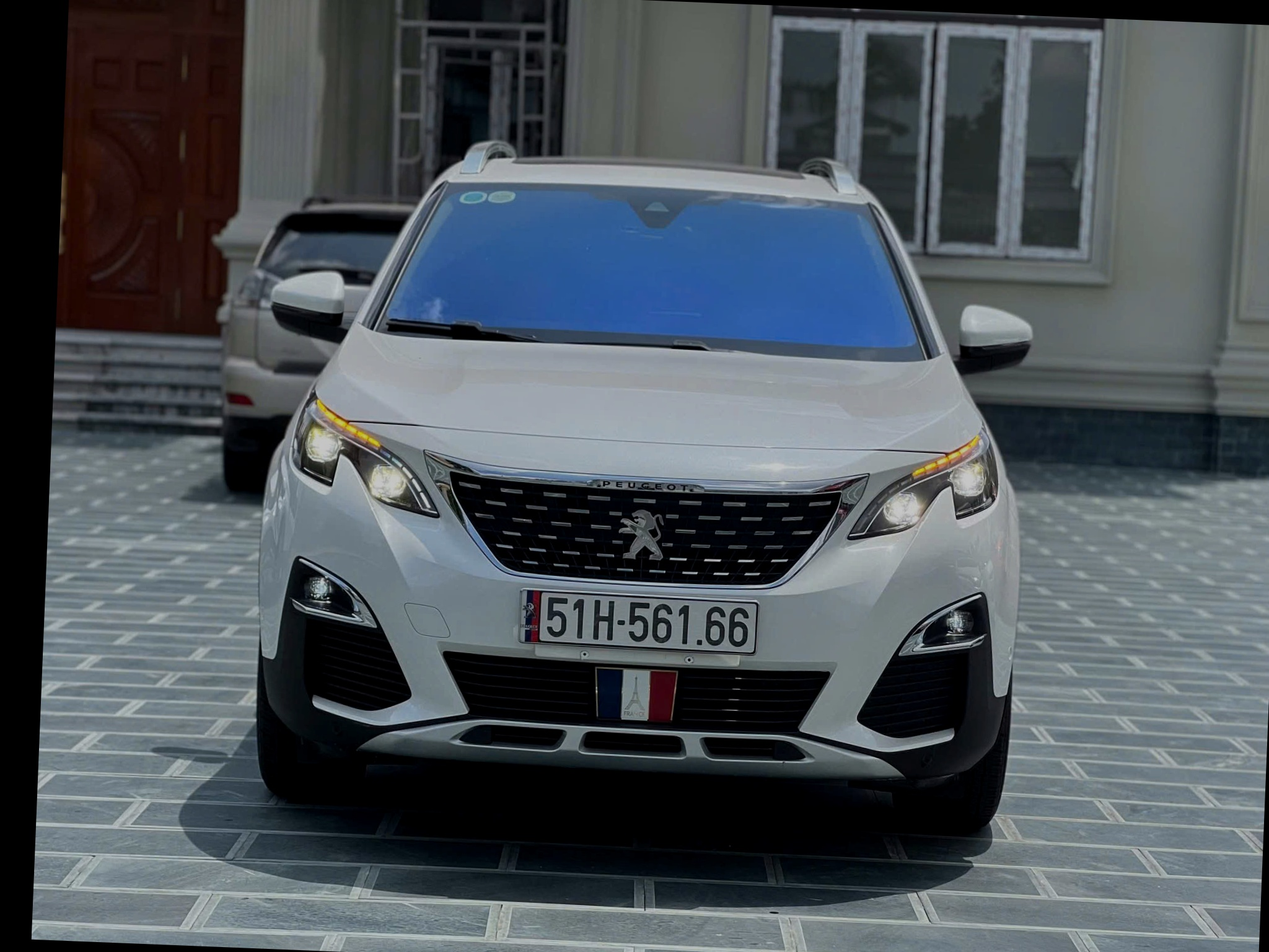Bien-so: (510, 570, 760, 648)
